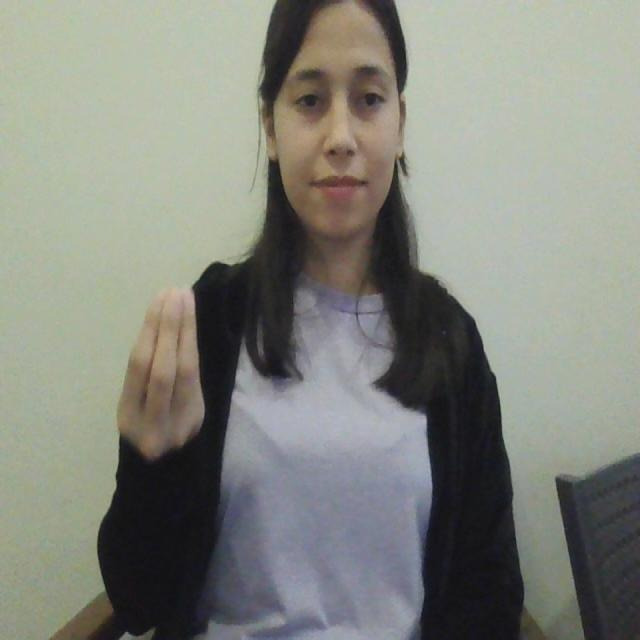iyi: (114, 280, 208, 466)
